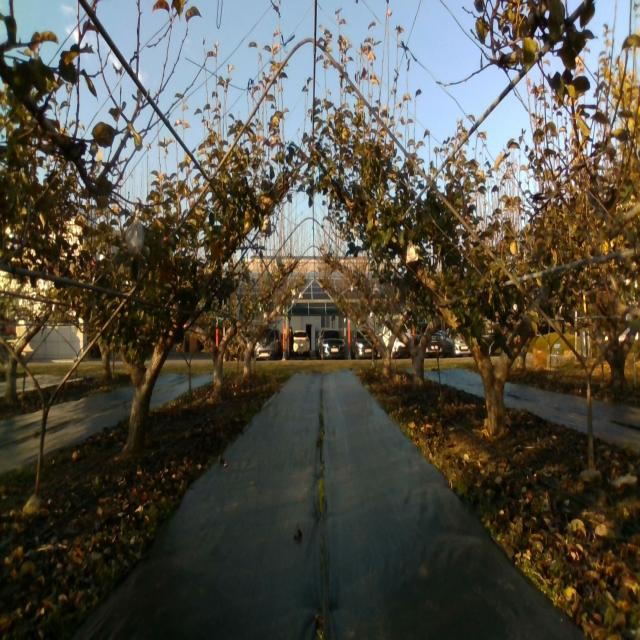pearbags: (126, 217, 145, 253), (406, 240, 418, 264), (261, 215, 271, 235)
